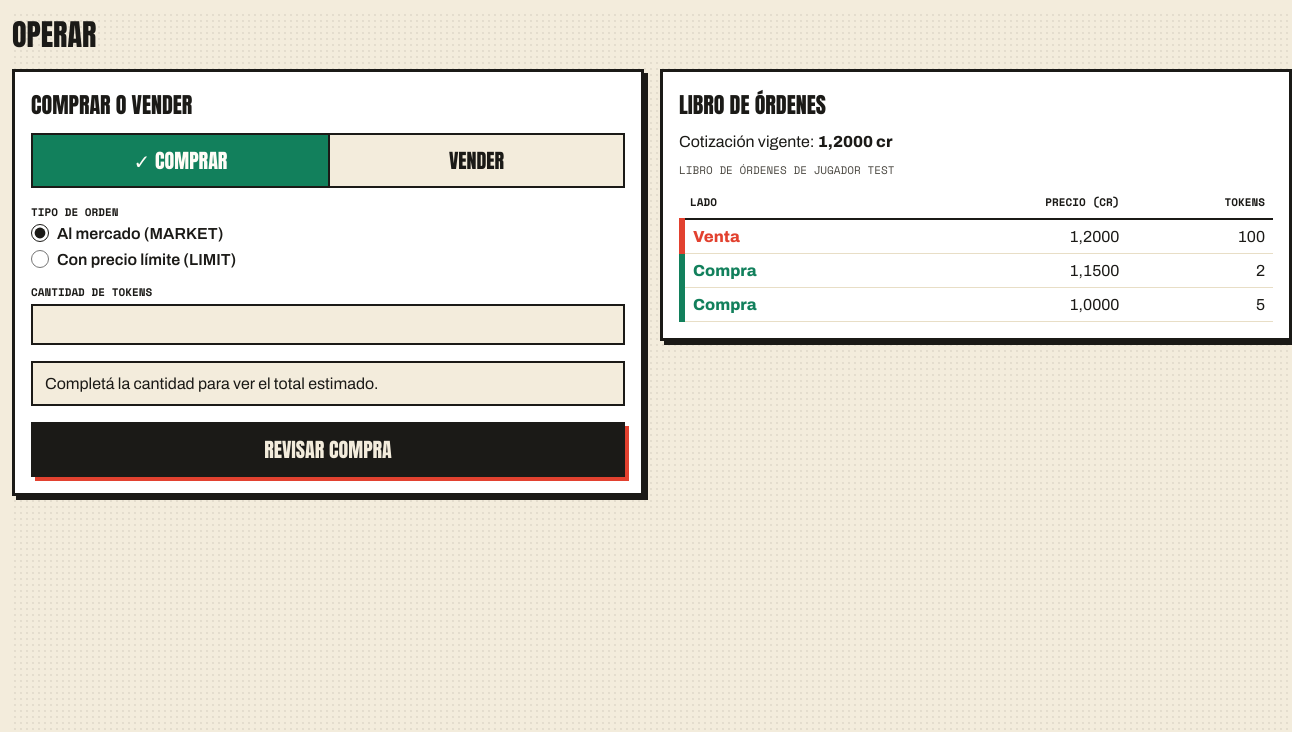
Scenario: TradePanel › selling (US2) › warns about the part without a counterpart
Click the button "Vender" at [476, 160], box [328,135,623,186]
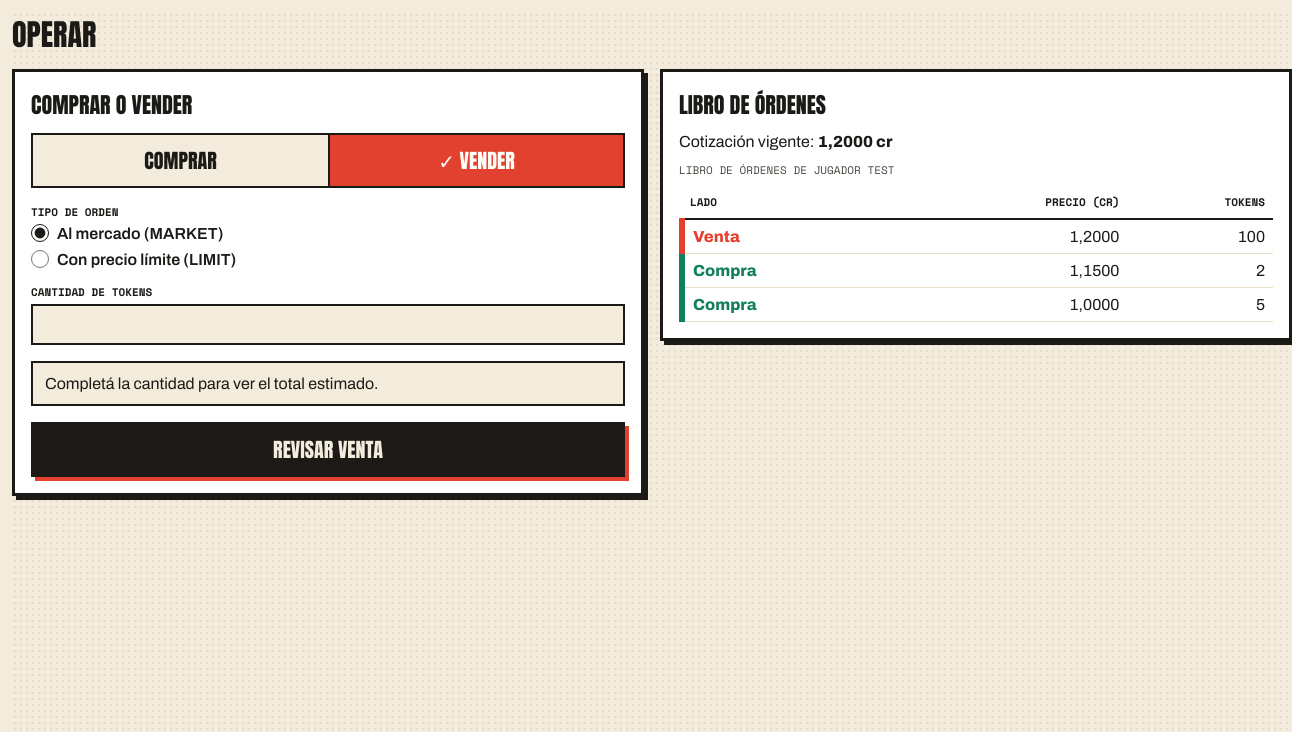
Type "10" into the field labelled "Cantidad de tokens" at [328, 324], box [31,304,625,345]
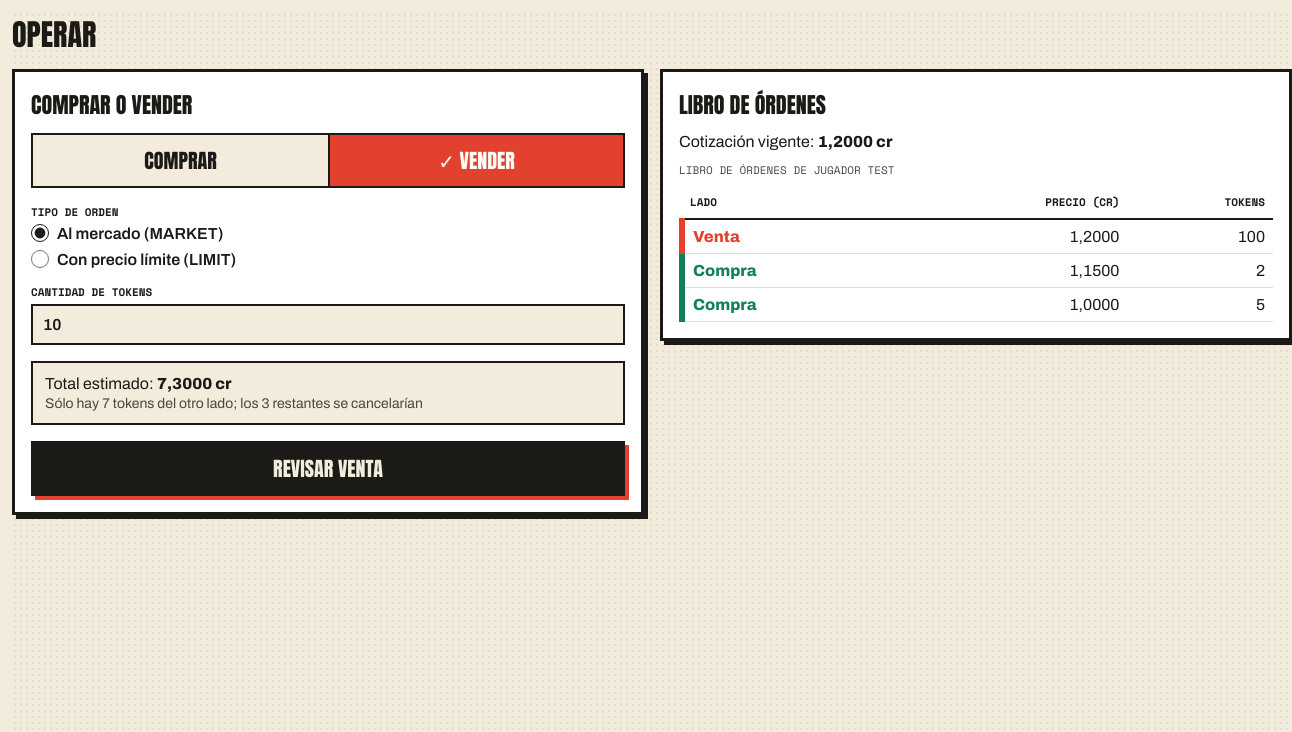
Check: the element with test id "trade-estimate" shows "Sólo hay 7 tokens del otro lado; los 3 restantes se cancelarían", box [45,396,423,411]
